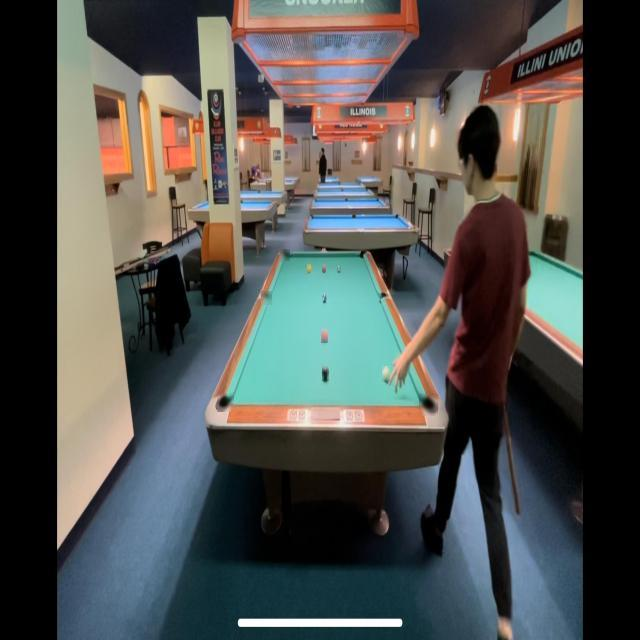Ball: (382, 366, 390, 382), (322, 365, 329, 381), (321, 329, 328, 343), (323, 292, 327, 304), (307, 264, 311, 274), (337, 264, 341, 274), (322, 264, 326, 272)
Pocket: (419, 394, 438, 416), (217, 393, 234, 412), (261, 291, 272, 305), (377, 292, 389, 304), (280, 249, 290, 261), (359, 250, 367, 259)
